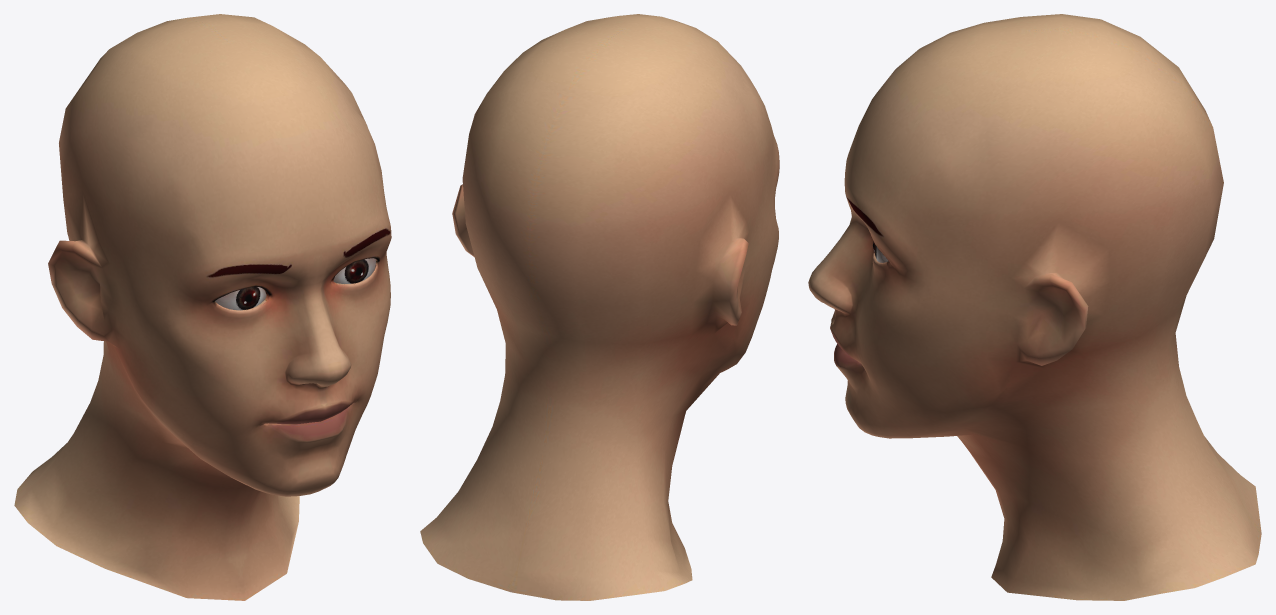
Rendered from 231102_G_MaleHead_WebBuilderTest.glb.
3 views of the same model, side by side, from view 1: azimuth 30°, elevation 25°; view 2: azimuth 150°, elevation 25°; view 3: azimuth 270°, elevation 25° (orthographic). The views are drawn at different scales.
Parts seen in each view (by area): view 1: G_MaleHead; view 2: G_MaleHead; view 3: G_MaleHead.
Boxes of the visible parts, <box> form: G_MaleHead: <box>14,14,391,600</box>; G_MaleHead: <box>420,14,779,600</box>; G_MaleHead: <box>808,14,1261,600</box>.
Size of the model in its own units: 0.1786 by 0.3125 by 0.234.
Materials: 1 (1 with a texture image).
